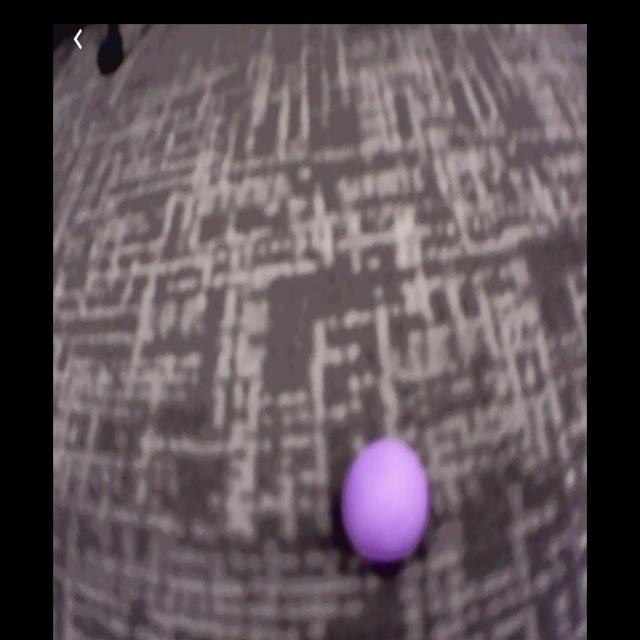ball: (342, 434, 432, 566)
